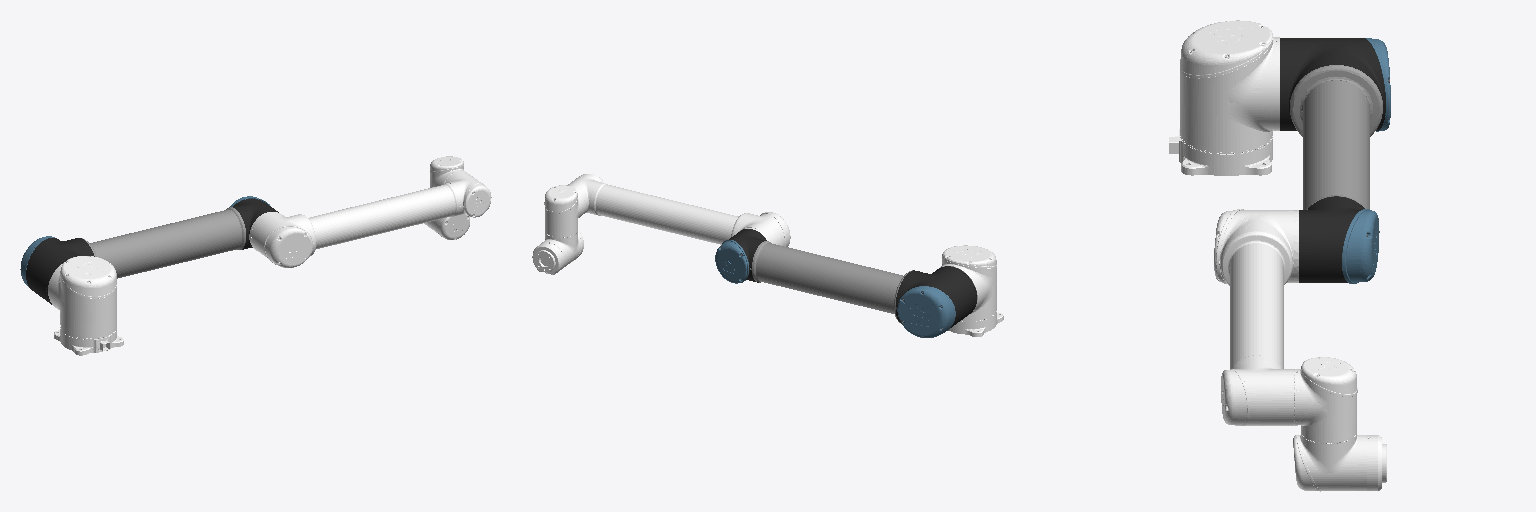
The robot description file, URDF, robot "ur10":
<?xml version="1.0" ?>
<!-- =================================================================================== -->
<!-- |    This document was autogenerated by xacro from urdf/ur10_robot.urdf.xacro     | -->
<!-- |    EDITING THIS FILE BY HAND IS NOT RECOMMENDED                                 | -->
<!-- =================================================================================== -->
<robot name="ur10" xmlns:xacro="http://www.ros.org/wiki/xacro">
  <!-- common stuff -->
  <gazebo>
    <plugin filename="libgazebo_ros_control.so" name="ros_control">
      <!--robotNamespace>/</robotNamespace-->
      <!--robotSimType>gazebo_ros_control/DefaultRobotHWSim</robotSimType-->
    </plugin>
    <!--
    <plugin name="gazebo_ros_power_monitor_controller" filename="libgazebo_ros_power_monitor.so">
      <alwaysOn>true</alwaysOn>
      <updateRate>1.0</updateRate>
      <timeout>5</timeout>
      <powerStateTopic>power_state</powerStateTopic>
      <powerStateRate>10.0</powerStateRate>
      <fullChargeCapacity>87.78</fullChargeCapacity>
      <dischargeRate>-474</dischargeRate>
      <chargeRate>525</chargeRate>
      <dischargeVoltage>15.52</dischargeVoltage>
      <chargeVoltage>16.41</chargeVoltage>
    </plugin>
-->
  </gazebo>
  <!-- ur10 -->
  <!-- arm -->
  <link name="base_link">
    <visual>
      <geometry>
        <mesh filename="../ur_description/meshes/ur10/visual/Base.dae"/>
      </geometry>
    </visual>
    <collision>
      <geometry>
        <mesh filename="../ur_description/meshes/ur10/collision/Base.dae"/>
      </geometry>
    </collision>
    <inertial>
      <mass value="4.0"/>
      <origin rpy="0 0 0" xyz="0.0 0.0 0.0"/>
      <inertia ixx="0.0061063308908" ixy="0.0" ixz="0.0" iyy="0.0061063308908" iyz="0.0" izz="0.01125"/>
    </inertial>
  </link>
  <joint name="shoulder_pan_joint" type="revolute">
    <parent link="base_link"/>
    <child link="shoulder_link"/>
    <origin rpy="0.0 0.0 0.0" xyz="0.0 0.0 0.1273"/>
    <axis xyz="0 0 1"/>
    <limit effort="330.0" lower="-6.2831853" upper="6.2831853" velocity="2.16"/>
    <dynamics damping="0.0" friction="0.0"/>
  </joint>
  <link name="shoulder_link">
    <visual>
      <geometry>
        <mesh filename="../ur_description/meshes/ur10/visual/Shoulder.dae"/>
      </geometry>
    </visual>
    <collision>
      <geometry>
        <mesh filename="../ur_description/meshes/ur10/collision/Shoulder.dae"/>
      </geometry>
    </collision>
    <inertial>
      <mass value="7.778"/>
      <origin rpy="0 0 0" xyz="0.0 0.0 0.0"/>
      <inertia ixx="0.0314743125769" ixy="0.0" ixz="0.0" iyy="0.0314743125769" iyz="0.0" izz="0.021875625"/>
    </inertial>
  </link>
  <joint name="shoulder_lift_joint" type="revolute">
    <parent link="shoulder_link"/>
    <child link="upper_arm_link"/>
    <origin rpy="0.0 1.570796325 0.0" xyz="0.0 0.220941 0.0"/>
    <axis xyz="0 1 0"/>
    <limit effort="330.0" lower="-6.2831853" upper="6.2831853" velocity="2.16"/>
    <dynamics damping="0.0" friction="0.0"/>
  </joint>
  <link name="upper_arm_link">
    <visual>
      <geometry>
        <mesh filename="../ur_description/meshes/ur10/visual/UpperArm.dae"/>
      </geometry>
    </visual>
    <collision>
      <geometry>
        <mesh filename="../ur_description/meshes/ur10/collision/UpperArm.dae"/>
      </geometry>
    </collision>
    <inertial>
      <mass value="12.93"/>
      <origin rpy="0 0 0" xyz="0.0 0.0 0.306"/>
      <inertia ixx="0.421753803798" ixy="0.0" ixz="0.0" iyy="0.421753803798" iyz="0.0" izz="0.036365625"/>
    </inertial>
  </link>
  <joint name="elbow_joint" type="revolute">
    <parent link="upper_arm_link"/>
    <child link="forearm_link"/>
    <origin rpy="0.0 0.0 0.0" xyz="0.0 -0.1719 0.612"/>
    <axis xyz="0 1 0"/>
    <limit effort="150.0" lower="-6.2831853" upper="6.2831853" velocity="3.15"/>
    <dynamics damping="0.0" friction="0.0"/>
  </joint>
  <link name="forearm_link">
    <visual>
      <geometry>
        <mesh filename="../ur_description/meshes/ur10/visual/Forearm.dae"/>
      </geometry>
    </visual>
    <collision>
      <geometry>
        <mesh filename="../ur_description/meshes/ur10/collision/Forearm.dae"/>
      </geometry>
    </collision>
    <inertial>
      <mass value="3.87"/>
      <origin rpy="0 0 0" xyz="0.0 0.0 0.28615"/>
      <inertia ixx="0.111069694097" ixy="0.0" ixz="0.0" iyy="0.111069694097" iyz="0.0" izz="0.010884375"/>
    </inertial>
  </link>
  <joint name="wrist_1_joint" type="revolute">
    <parent link="forearm_link"/>
    <child link="wrist_1_link"/>
    <origin rpy="0.0 1.570796325 0.0" xyz="0.0 0.0 0.5723"/>
    <axis xyz="0 1 0"/>
    <limit effort="54.0" lower="-6.2831853" upper="6.2831853" velocity="3.2"/>
    <dynamics damping="0.0" friction="0.0"/>
  </joint>
  <link name="wrist_1_link">
    <visual>
      <geometry>
        <mesh filename="../ur_description/meshes/ur10/visual/Wrist1.dae"/>
      </geometry>
    </visual>
    <collision>
      <geometry>
        <mesh filename="../ur_description/meshes/ur10/collision/Wrist1.dae"/>
      </geometry>
    </collision>
    <inertial>
      <mass value="1.96"/>
      <origin rpy="0 0 0" xyz="0.0 0.0 0.0"/>
      <inertia ixx="0.0051082479567" ixy="0.0" ixz="0.0" iyy="0.0051082479567" iyz="0.0" izz="0.0055125"/>
    </inertial>
  </link>
  <joint name="wrist_2_joint" type="revolute">
    <parent link="wrist_1_link"/>
    <child link="wrist_2_link"/>
    <origin rpy="0.0 0.0 0.0" xyz="0.0 0.1149 0.0"/>
    <axis xyz="0 0 1"/>
    <limit effort="54.0" lower="-6.2831853" upper="6.2831853" velocity="3.2"/>
    <dynamics damping="0.0" friction="0.0"/>
  </joint>
  <link name="wrist_2_link">
    <visual>
      <geometry>
        <mesh filename="../ur_description/meshes/ur10/visual/Wrist2.dae"/>
      </geometry>
    </visual>
    <collision>
      <geometry>
        <mesh filename="../ur_description/meshes/ur10/collision/Wrist2.dae"/>
      </geometry>
    </collision>
    <inertial>
      <mass value="1.96"/>
      <origin rpy="0 0 0" xyz="0.0 0.0 0.0"/>
      <inertia ixx="0.0051082479567" ixy="0.0" ixz="0.0" iyy="0.0051082479567" iyz="0.0" izz="0.0055125"/>
    </inertial>
  </link>
  <joint name="wrist_3_joint" type="revolute">
    <parent link="wrist_2_link"/>
    <child link="wrist_3_link"/>
    <origin rpy="0.0 0.0 0.0" xyz="0.0 0.0 0.1157"/>
    <axis xyz="0 1 0"/>
    <limit effort="54.0" lower="-6.2831853" upper="6.2831853" velocity="3.2"/>
    <dynamics damping="0.0" friction="0.0"/>
  </joint>
  <link name="wrist_3_link">
    <visual>
      <geometry>
        <mesh filename="../ur_description/meshes/ur10/visual/Wrist3.dae"/>
      </geometry>
    </visual>
    <collision>
      <geometry>
        <mesh filename="../ur_description/meshes/ur10/collision/Wrist3.dae"/>
      </geometry>
    </collision>
    <inertial>
      <mass value="0.202"/>
      <origin rpy="0 0 0" xyz="0.0 0.0 0.0"/>
      <inertia ixx="0.000526462289415" ixy="0.0" ixz="0.0" iyy="0.000526462289415" iyz="0.0" izz="0.000568125"/>
    </inertial>
  </link>
  <joint name="ee_fixed_joint" type="fixed">
    <parent link="wrist_3_link"/>
    <child link="ee_link"/>
    <origin rpy="0.0 0.0 1.570796325" xyz="0.0 0.0922 0.0"/>
  </joint>
  <link name="ee_link"/>
  <transmission name="shoulder_pan_trans">
    <type>transmission_interface/SimpleTransmission</type>
    <joint name="shoulder_pan_joint"/>
    <actuator name="shoulder_pan_motor">
      <hardwareInterface>EffortJointInterface</hardwareInterface>
      <mechanicalReduction>1</mechanicalReduction>
    </actuator>
  </transmission>
  <transmission name="shoulder_lift_trans">
    <type>transmission_interface/SimpleTransmission</type>
    <joint name="shoulder_lift_joint"/>
    <actuator name="shoulder_lift_motor">
      <hardwareInterface>EffortJointInterface</hardwareInterface>
      <mechanicalReduction>1</mechanicalReduction>
    </actuator>
  </transmission>
  <transmission name="elbow_trans">
    <type>transmission_interface/SimpleTransmission</type>
    <joint name="elbow_joint"/>
    <actuator name="elbow_motor">
      <hardwareInterface>EffortJointInterface</hardwareInterface>
      <mechanicalReduction>1</mechanicalReduction>
    </actuator>
  </transmission>
  <transmission name="wrist_1_trans">
    <type>transmission_interface/SimpleTransmission</type>
    <joint name="wrist_1_joint"/>
    <actuator name="wrist_1_motor">
      <hardwareInterface>EffortJointInterface</hardwareInterface>
      <mechanicalReduction>1</mechanicalReduction>
    </actuator>
  </transmission>
  <transmission name="wrist_2_trans">
    <type>transmission_interface/SimpleTransmission</type>
    <joint name="wrist_2_joint"/>
    <actuator name="wrist_2_motor">
      <hardwareInterface>EffortJointInterface</hardwareInterface>
      <mechanicalReduction>1</mechanicalReduction>
    </actuator>
  </transmission>
  <transmission name="wrist_3_trans">
    <type>transmission_interface/SimpleTransmission</type>
    <joint name="wrist_3_joint"/>
    <actuator name="wrist_3_motor">
      <hardwareInterface>EffortJointInterface</hardwareInterface>
      <mechanicalReduction>1</mechanicalReduction>
    </actuator>
  </transmission>
  <link name="world"/>
  <joint name="world_joint" type="fixed">
    <parent link="world"/>
    <child link="base_link"/>
    <origin rpy="0.0 0.0 0.0" xyz="0.0 0.0 1.0"/>
  </joint>
</robot>

--- Facts derived from the render (not from the file) ---
The picture shows the robot from 3 angles, left to right: view 1: azimuth 30°, elevation 25°; view 2: azimuth 150°, elevation 25°; view 3: azimuth 270°, elevation 25°; orthographic projection.
Model ur10 with 9 links and 8 joints (6 revolute, 2 fixed), rooted at world, posed every joint at zero.
Links seen in each view (by area): view 1: upper_arm_link, forearm_link, shoulder_link, base_link, wrist_2_link, wrist_1_link; view 2: upper_arm_link, forearm_link, shoulder_link, wrist_1_link, wrist_3_link, wrist_2_link, base_link; view 3: upper_arm_link, forearm_link, shoulder_link, wrist_1_link, wrist_2_link, base_link, wrist_3_link.
Boxes of the visible links, box(x1,y1,x2,y2) form: upper_arm_link: box(20, 196, 278, 304); forearm_link: box(249, 171, 491, 267); shoulder_link: box(48, 256, 116, 339); base_link: box(54, 328, 123, 355); wrist_2_link: box(424, 214, 469, 239); wrist_1_link: box(430, 156, 463, 187); upper_arm_link: box(715, 229, 976, 337); forearm_link: box(567, 174, 790, 246); shoulder_link: box(940, 245, 996, 321); wrist_1_link: box(544, 185, 585, 237); wrist_3_link: box(532, 242, 563, 274); wrist_2_link: box(542, 231, 583, 269); base_link: box(948, 313, 1003, 336); upper_arm_link: box(1280, 38, 1390, 283); forearm_link: box(1214, 209, 1298, 425); shoulder_link: box(1180, 20, 1279, 154); wrist_1_link: box(1295, 357, 1357, 443); wrist_2_link: box(1293, 435, 1366, 491); base_link: box(1169, 129, 1272, 175); wrist_3_link: box(1367, 435, 1386, 490).
Bounding box of the posed robot: 1.31 × 0.3552 × 0.2501 m (x, y, z).
7 mesh visuals loaded from 7 distinct referenced files (7 Collada DAE).